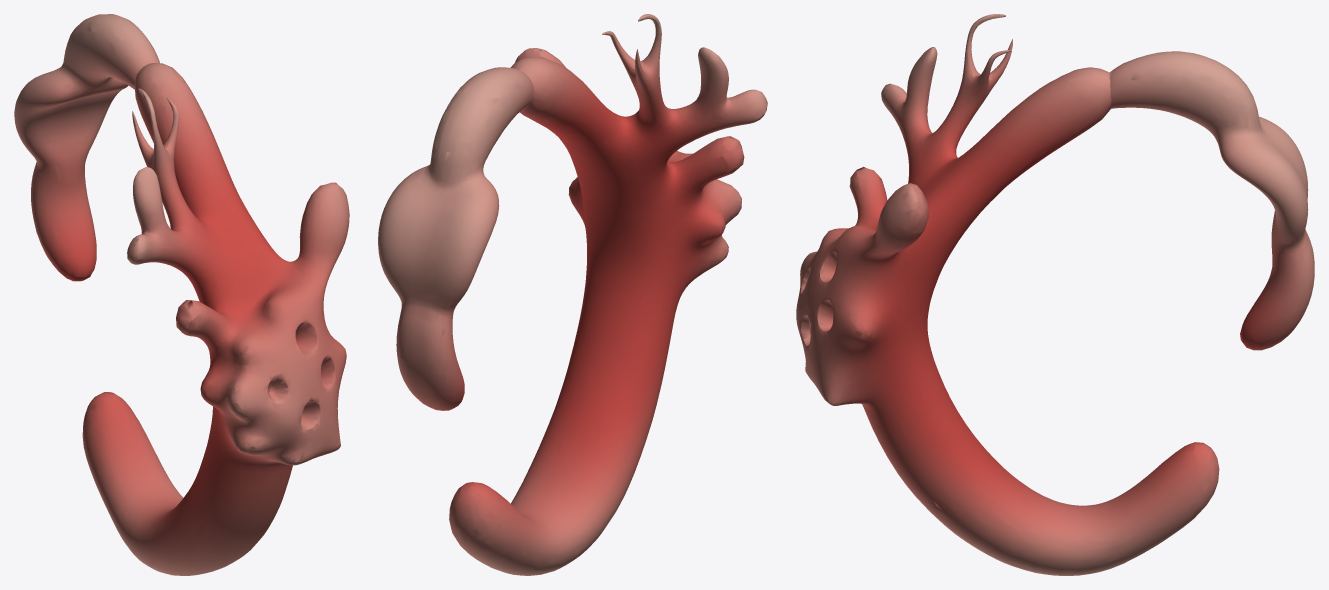
The model's file is anillo_3_ia.glb.
3 views of the same model, side by side, from view 1: azimuth 30°, elevation 25°; view 2: azimuth 150°, elevation 25°; view 3: azimuth 270°, elevation 25° (orthographic). The views are drawn at different scales.
Visible parts, largest first — view 1: model; view 2: model; view 3: model.
Boxes of the visible parts, x1,y1,x2,y2 form: model: (14,14,349,575); model: (378,14,767,575); model: (796,14,1314,575).
Bounding box in the file's own units: 0.8793 × 1.9 × 1.7.
